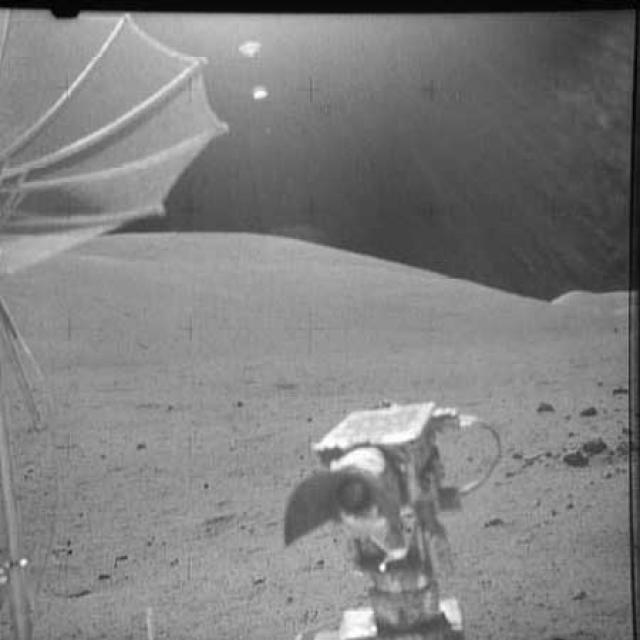artifact: (2, 4, 223, 639), (280, 381, 508, 639)
rock: (564, 433, 608, 466), (537, 392, 562, 417), (577, 402, 600, 418)
